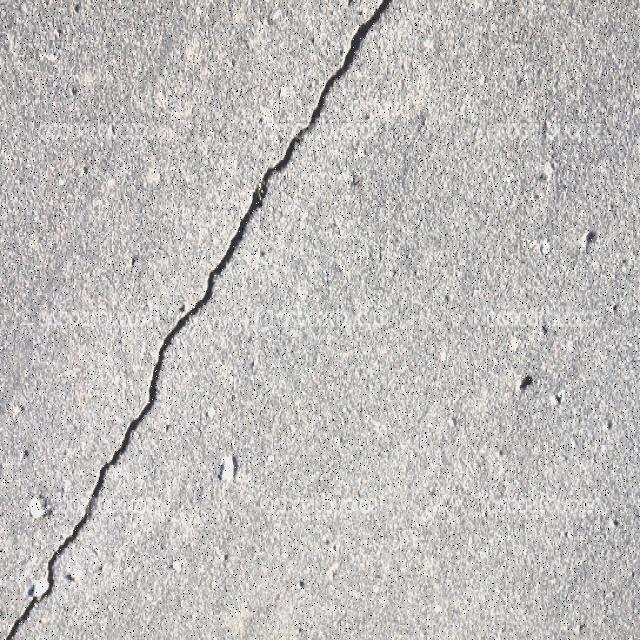crack: (4, 311, 206, 640), (222, 3, 406, 248), (128, 189, 273, 451), (188, 183, 275, 312), (309, 2, 403, 113), (6, 551, 71, 638), (252, 128, 309, 203)
